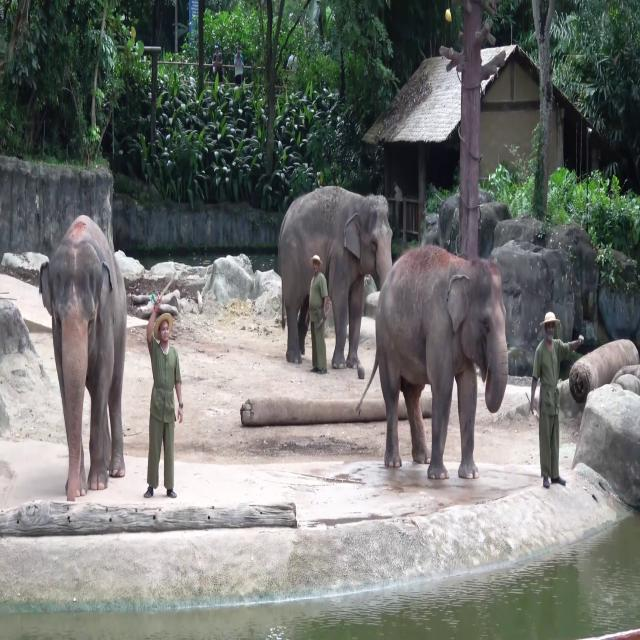Elephant: (355, 244, 509, 480), (39, 213, 127, 502), (278, 184, 393, 376)
person: (530, 311, 584, 488), (143, 295, 184, 498), (305, 254, 329, 375), (212, 42, 224, 84), (233, 44, 244, 86)
